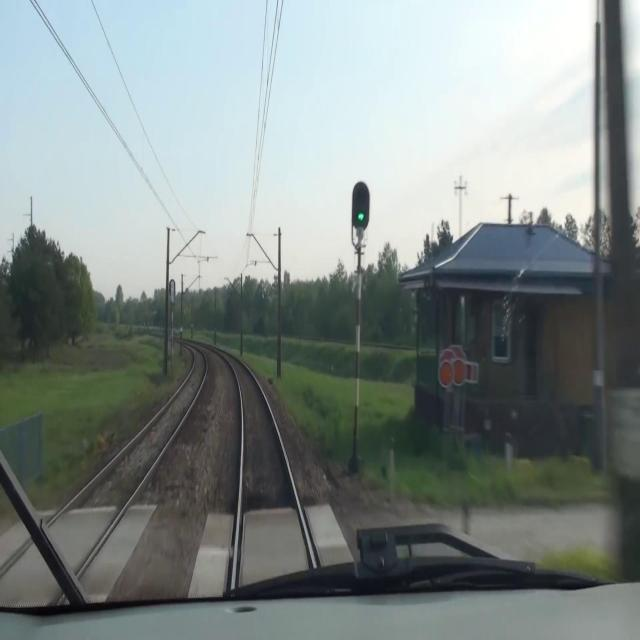rail-track: (0, 350, 205, 607), (227, 356, 313, 588)
